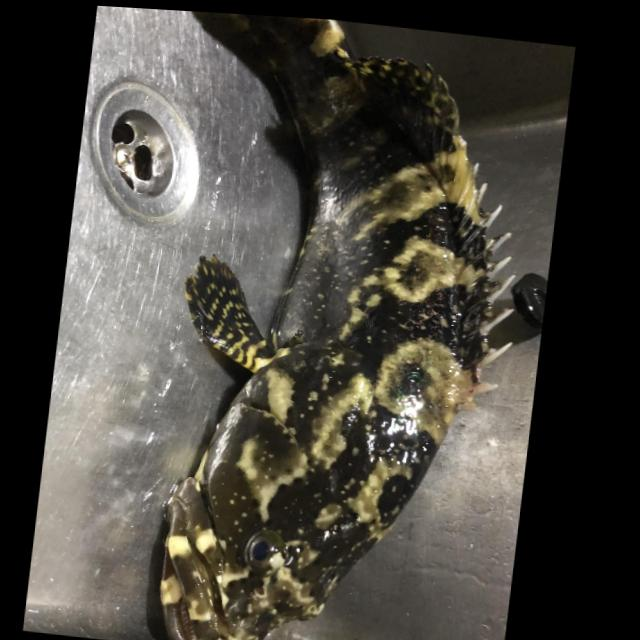Groupers: (145, 11, 554, 640)
